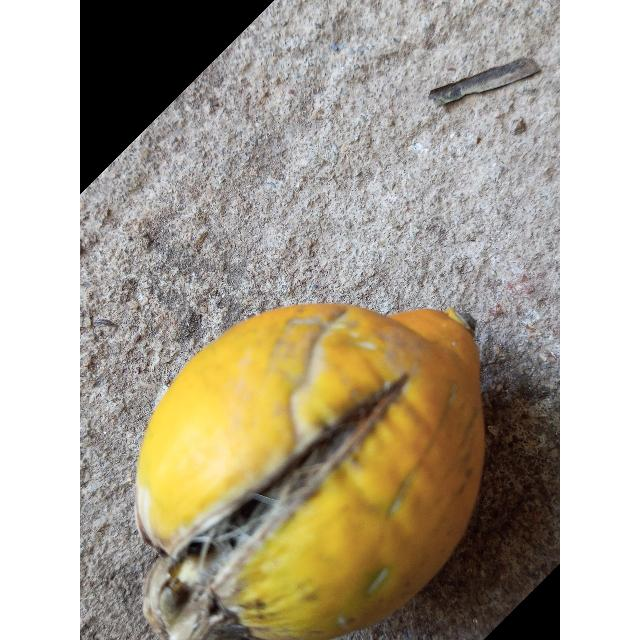damaged: (135, 303, 486, 640)
